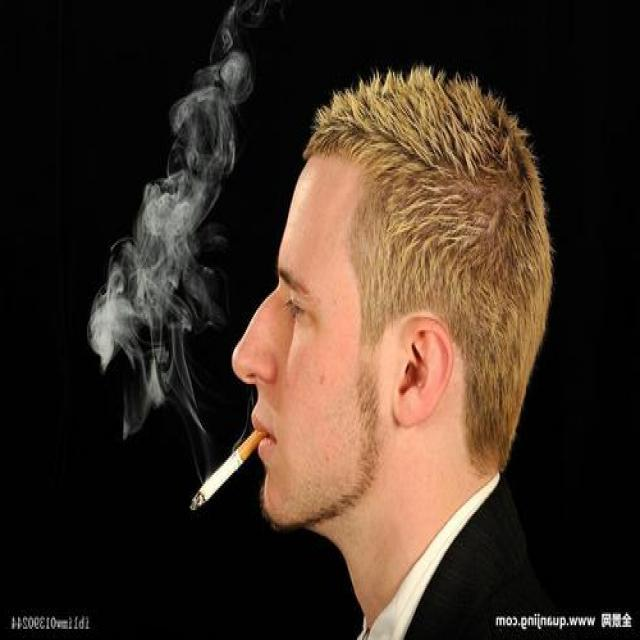smoking: (187, 408, 272, 519)
